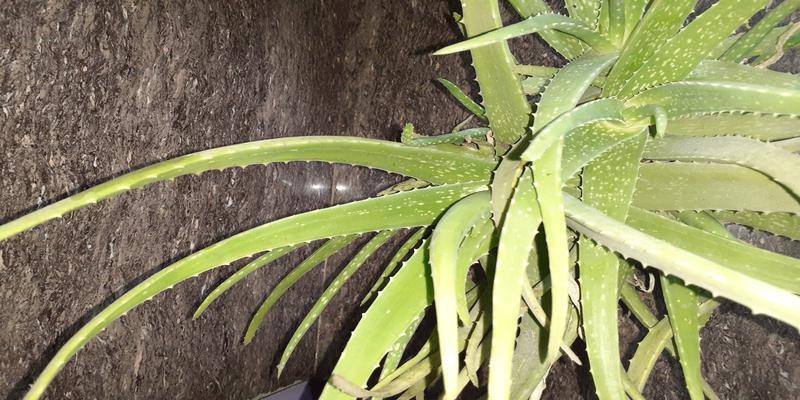Aloevera: (276, 59, 781, 375)
